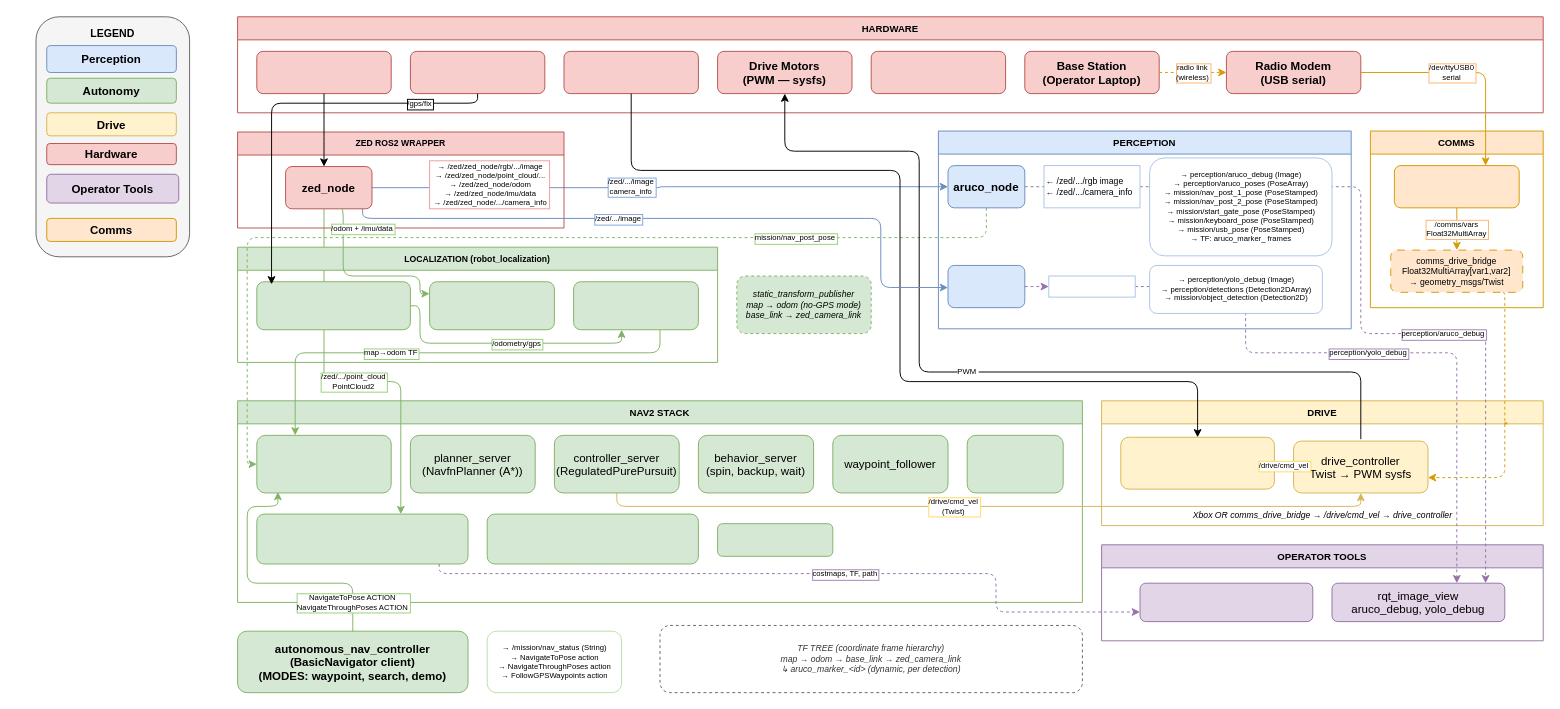
Image size: 1560x709. Some labels were removed from this diagram. The shapes that lost their labels are listed below. From the top down, each one's centre as x and y in pixels, then its label:
At pixel 323 72: "ZED 2i Camera".
At pixel 477 72: "GPS".
At pixel 630 72: "Xbox Controller (/dev/input/js0)".
At pixel 938 72: "Jetson Orin Nano".
At pixel 1456 186: "comms_node serial parser, 57600 baud /dev/ttyUSB0".
At pixel 333 305: "navsat_transform_node (WGS84 → cartesian)".
At pixel 491 305: "ekf_filter_node_local (odom → base_link)".
At pixel 635 305: "ekf_filter_node_global (map → odom (GPS))".
At pixel 986 286: "yolo_node".
At pixel 1091 286: "← /zed/.../rgb image".
At pixel 323 463: "bt_navigator (NavigateToPose, NavigateThroughPoses)".
At pixel 1014 463: "collision_monitor (hard stop safety)".
At pixel 1197 462: "xbox_controller_node /dev/input/js0 → Twist".
At pixel 362 538: "local_costmap ZED PointCloud2 → ObstacleLayer InflationLayer rolling 8m×8m".
At pixel 592 538: "global_costmap ZED PointCloud2 → ObstacleLayer InflationLayer allow_unknown".
At pixel 775 539: "velocity_smoother".
At pixel 1226 602: "RViz2 costmaps, TF, path, debug imgs".
